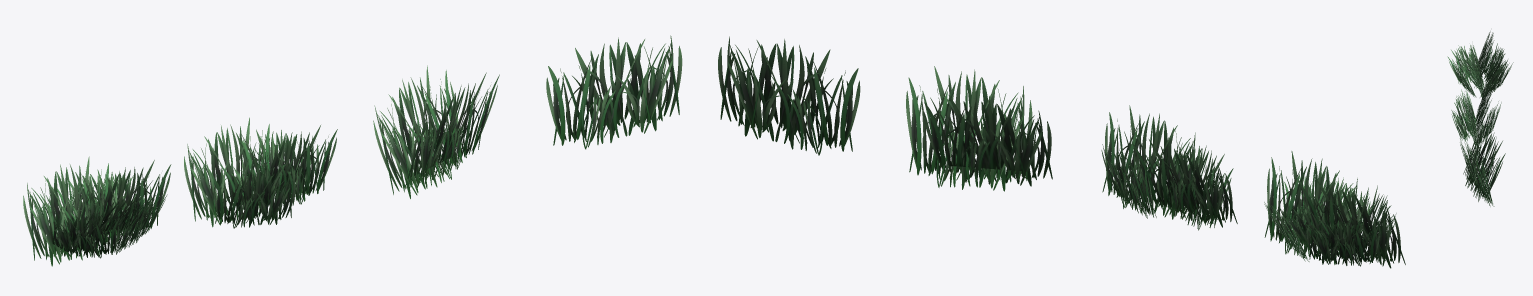
Rendered from SmallDetail_Grass.FBX.
3 renders of one model, left to right at view 1: azimuth 30°, elevation 25°; view 2: azimuth 150°, elevation 25°; view 3: azimuth 270°, elevation 25°, orthographic. The views are drawn at different scales.
Parts seen in each view (by area): view 1: GrassPlane015, GrassPlane013, GrassPlane009, GrassPlane001, GrassPlane014, GrassPlane010, GrassPlane011, GrassPlane002, GrassPlane003, GrassPlane012, GrassPlane008, GrassPlane006 (+2 smaller); view 2: GrassPlane015, GrassPlane013, GrassPlane014, GrassPlane009, GrassPlane010, GrassPlane002, GrassPlane001, GrassPlane005, GrassPlane012, GrassPlane011, GrassPlane007, GrassPlane004 (+2 smaller); view 3: GrassPlane013, GrassPlane014, GrassPlane011, GrassPlane003, GrassPlane005, GrassPlane012, GrassPlane009, GrassPlane004, GrassPlane001, GrassPlane002, GrassPlane008, GrassPlane010 (+2 smaller).
Boxes of the visible parts, left/top/right/bottom form: GrassPlane015: left=546, top=35, right=682, bottom=149; GrassPlane013: left=373, top=65, right=466, bottom=198; GrassPlane009: left=184, top=117, right=274, bottom=227; GrassPlane001: left=23, top=156, right=118, bottom=266; GrassPlane014: left=405, top=72, right=499, bottom=187; GrassPlane010: left=240, top=125, right=337, bottom=210; GrassPlane011: left=213, top=172, right=295, bottom=228; GrassPlane002: left=77, top=160, right=171, bottom=245; GrassPlane003: left=49, top=215, right=119, bottom=258; GrassPlane012: left=240, top=129, right=318, bottom=201; GrassPlane008: left=79, top=194, right=155, bottom=237; GrassPlane006: left=111, top=194, right=167, bottom=254; GrassPlane015: left=718, top=36, right=860, bottom=155; GrassPlane013: left=924, top=95, right=1052, bottom=186; GrassPlane014: left=906, top=66, right=1032, bottom=191; GrassPlane009: left=1132, top=139, right=1237, bottom=227; GrassPlane010: left=1102, top=105, right=1199, bottom=219; GrassPlane002: left=1264, top=151, right=1361, bottom=264; GrassPlane001: left=1300, top=179, right=1405, bottom=268; GrassPlane005: left=1307, top=221, right=1379, bottom=266; GrassPlane012: left=1101, top=144, right=1156, bottom=218; GrassPlane011: left=1163, top=143, right=1233, bottom=230; GrassPlane007: left=1277, top=206, right=1345, bottom=254; GrassPlane004: left=1264, top=202, right=1309, bottom=261; GrassPlane013: left=1463, top=127, right=1505, bottom=201; GrassPlane014: left=1460, top=139, right=1494, bottom=206; GrassPlane011: left=1451, top=89, right=1476, bottom=142; GrassPlane003: left=1447, top=45, right=1477, bottom=84; GrassPlane005: left=1483, top=43, right=1507, bottom=83; GrassPlane012: left=1475, top=101, right=1501, bottom=148; GrassPlane009: left=1475, top=78, right=1493, bottom=134; GrassPlane004: left=1480, top=62, right=1513, bottom=97; GrassPlane001: left=1474, top=31, right=1494, bottom=88; GrassPlane002: left=1470, top=45, right=1484, bottom=97; GrassPlane008: left=1459, top=51, right=1483, bottom=88; GrassPlane010: left=1463, top=91, right=1477, bottom=146.
Size of the model in its own units: 438 by 78.46 by 71.96.
